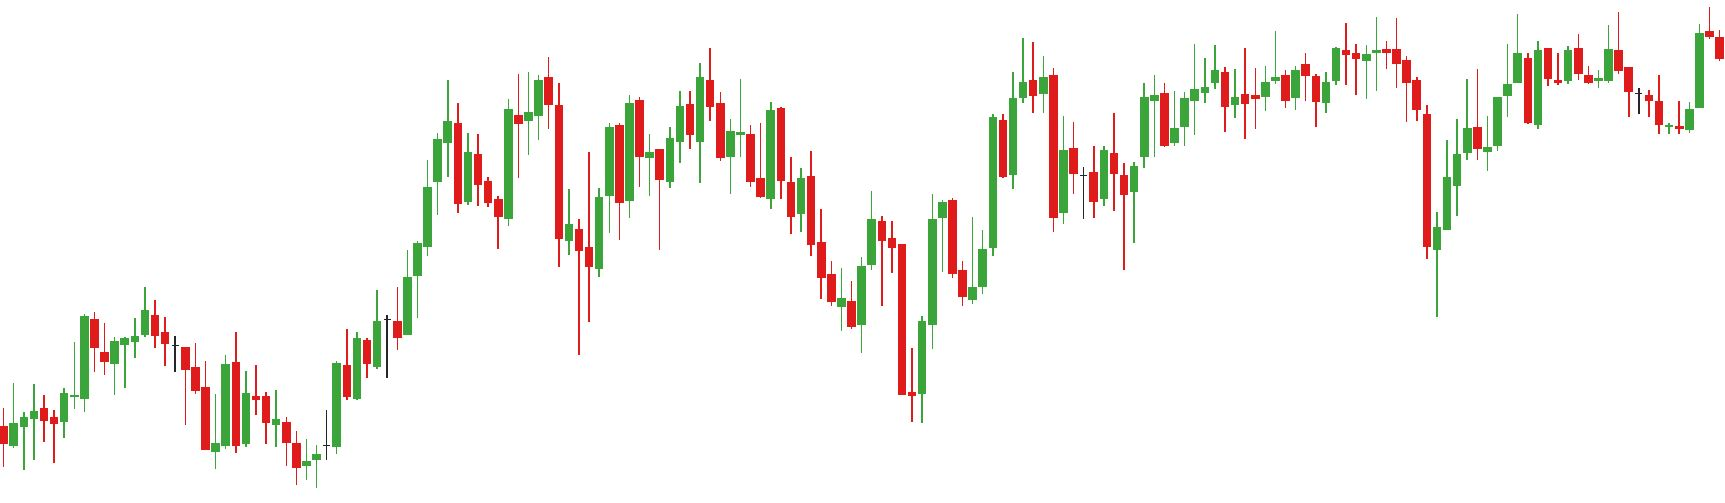buy: (857, 241, 929, 430)
sell: (442, 53, 553, 161)
